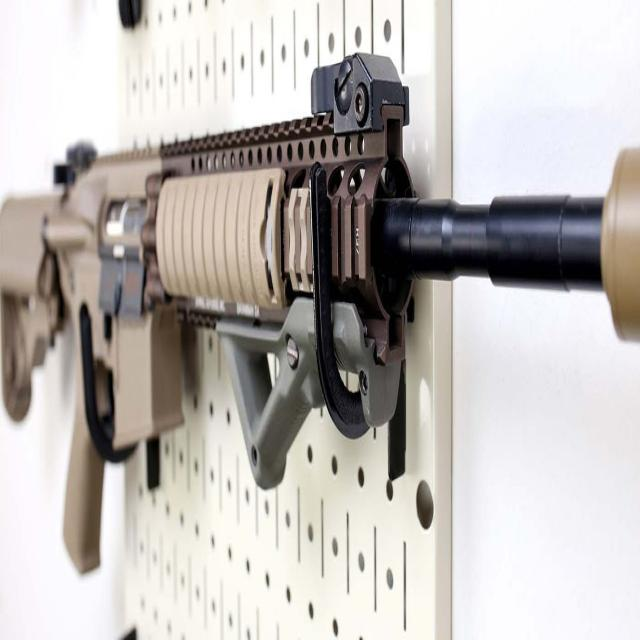Rifle: (0, 54, 601, 576)
